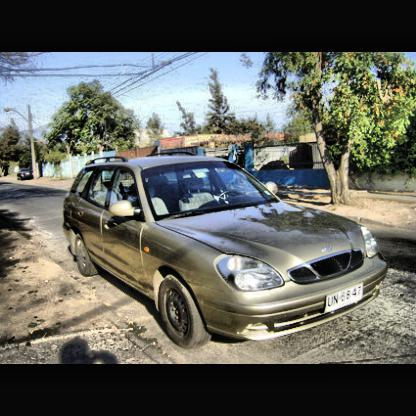Daewoo Nubira Wagon 2002: (64, 156, 391, 352)
